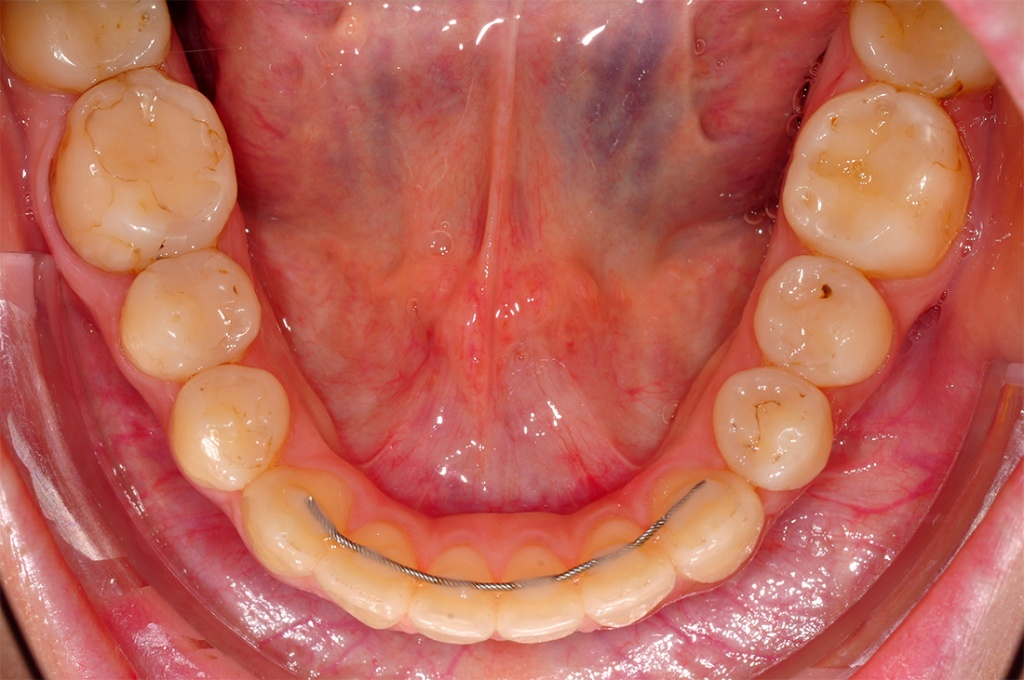LL1BC_decay: (711, 366, 834, 492)
LL1M_decay: (779, 88, 978, 270)
LL2BC_decay: (751, 256, 897, 388)
LL2M_decay: (844, 1, 993, 101)
LLCI_decay: (497, 544, 583, 646)
LLC_decay: (651, 470, 766, 581)
LLLI_decay: (584, 518, 674, 627)
LR1BC_decay: (173, 366, 295, 496)
LR1M_decay: (50, 70, 236, 270)
LR2BC_decay: (116, 251, 266, 380)
LR2M_decay: (4, 1, 176, 99)
LRCI_decay: (409, 547, 498, 648)
LRC_decay: (241, 468, 352, 570)
LRLI_decay: (317, 521, 416, 627)
